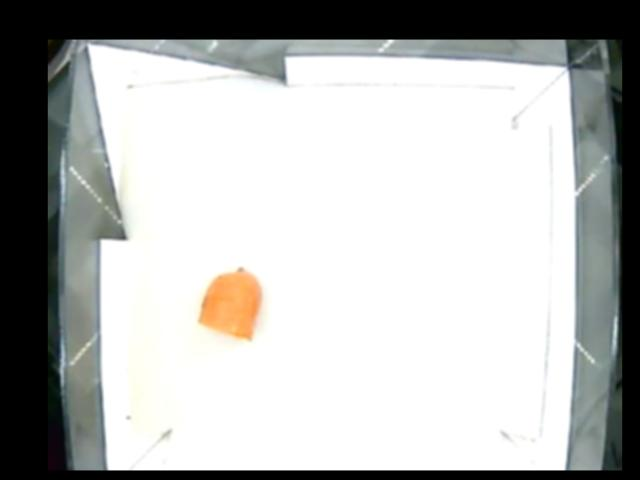Carrot: (200, 268, 261, 342)
